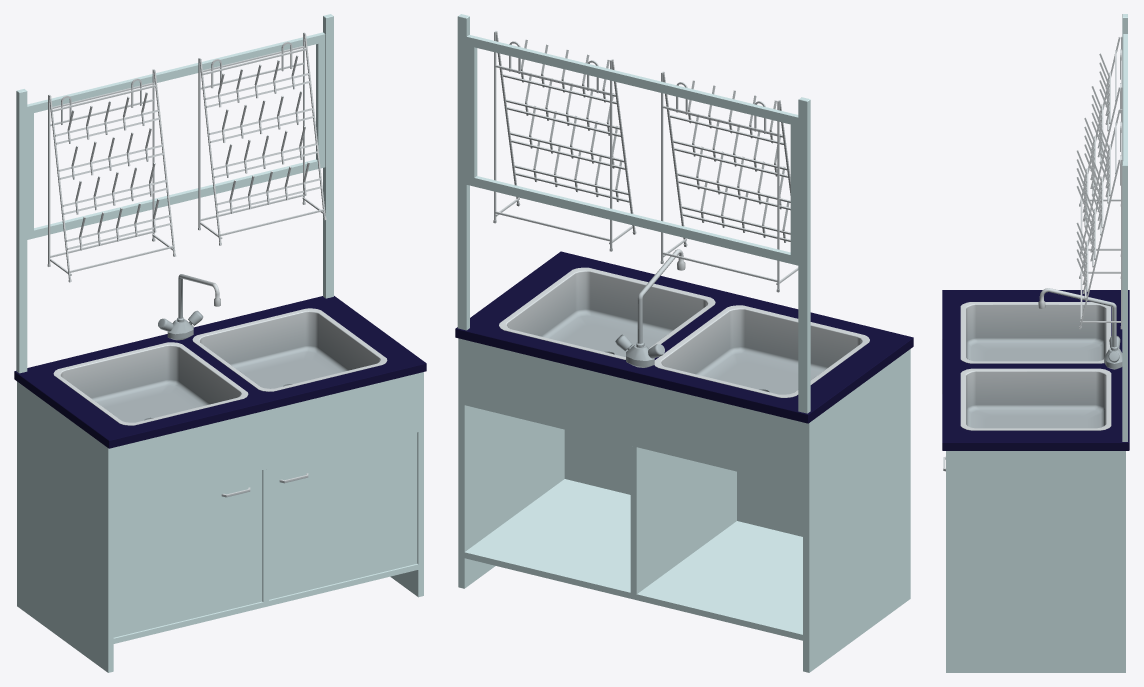
Rendered from Sink.fbx.
The picture shows the model from 3 angles, left to right: view 1: azimuth 30°, elevation 25°; view 2: azimuth 150°, elevation 25°; view 3: azimuth 270°, elevation 25°; orthographic projection. The views are drawn at different scales.
Visible parts, largest first — view 1: Lab_Table_2:polySurface1; view 2: Lab_Table_2:polySurface1; view 3: Lab_Table_2:polySurface1.
Boxes of the visible parts, bbox=[...] form: Lab_Table_2:polySurface1: bbox=[14, 14, 426, 672]; Lab_Table_2:polySurface1: bbox=[455, 14, 913, 672]; Lab_Table_2:polySurface1: bbox=[942, 14, 1129, 672].
Bounding box in the file's own units: 1.21 × 1.87 × 0.6259.
